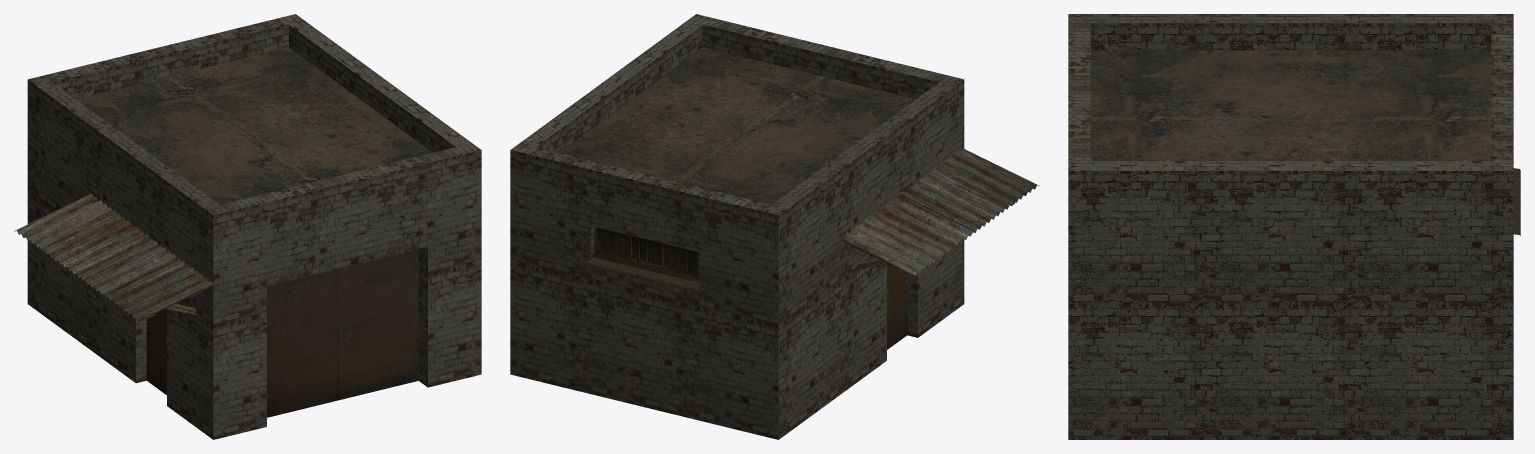
File: garage_hl_1.glb
3 renders of one model, left to right at view 1: azimuth 30°, elevation 25°; view 2: azimuth 150°, elevation 25°; view 3: azimuth 270°, elevation 25°, orthographic. The views are drawn at different scales.
Parts seen in each view (by area): view 1: garage_hl_1; view 2: garage_hl_1; view 3: garage_hl_1.
Boxes of the visible parts, bbox=[...] form: garage_hl_1: bbox=[14, 14, 481, 439]; garage_hl_1: bbox=[510, 14, 1039, 439]; garage_hl_1: bbox=[1068, 14, 1520, 439].
Size of the model in its own units: 6.4 by 4 by 6.1.
9 materials, 9 textured.
